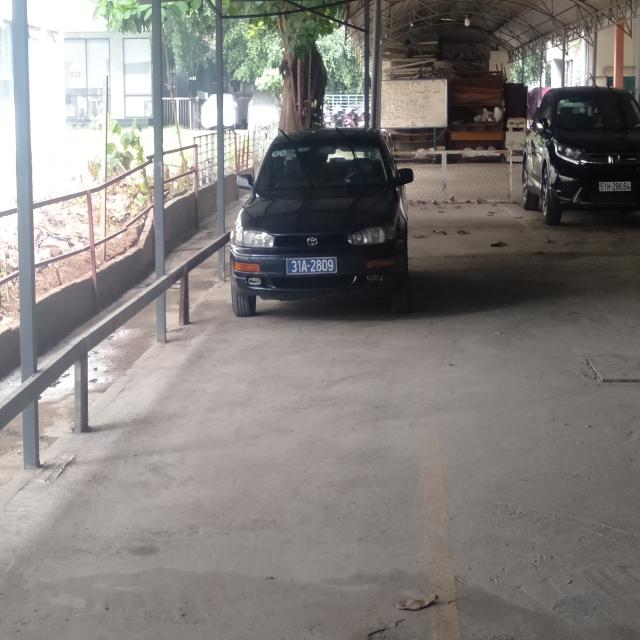bien_trang: (600, 183, 630, 191)
bien_xanh: (286, 255, 338, 277)
